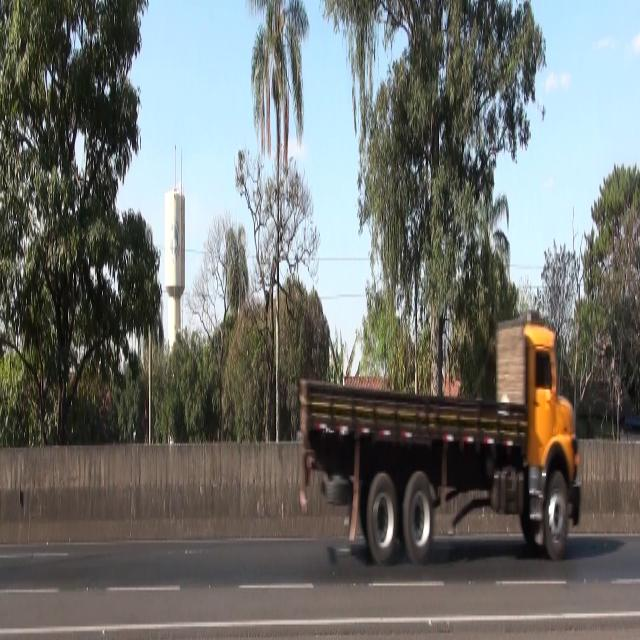-axle: (402, 469, 436, 566), (366, 473, 398, 568), (540, 471, 572, 563)
